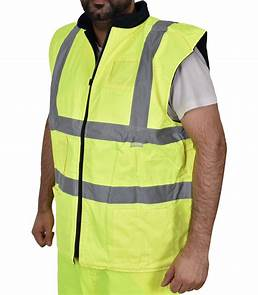Reflective vest: (46, 19, 211, 271)
